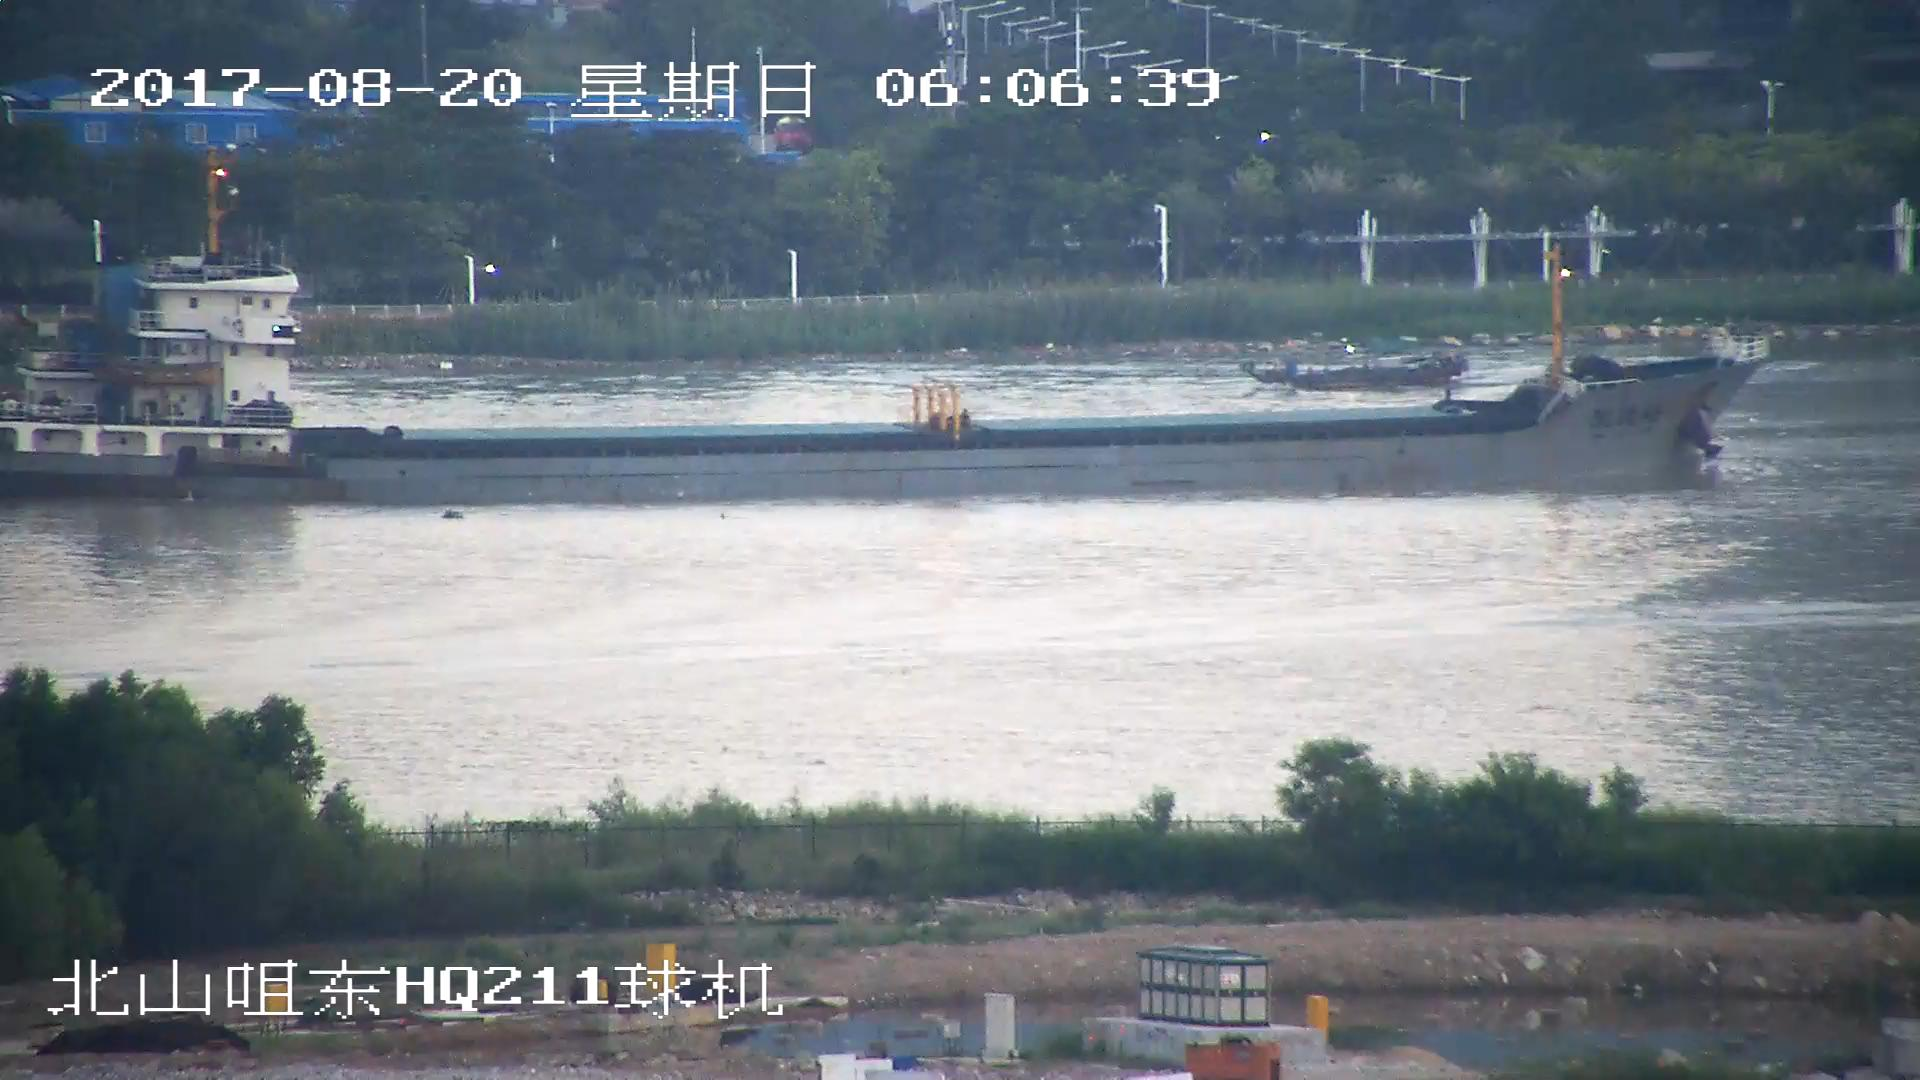fishing boat: (1245, 356, 1469, 394)
general cargo ship: (1, 148, 1777, 494)
